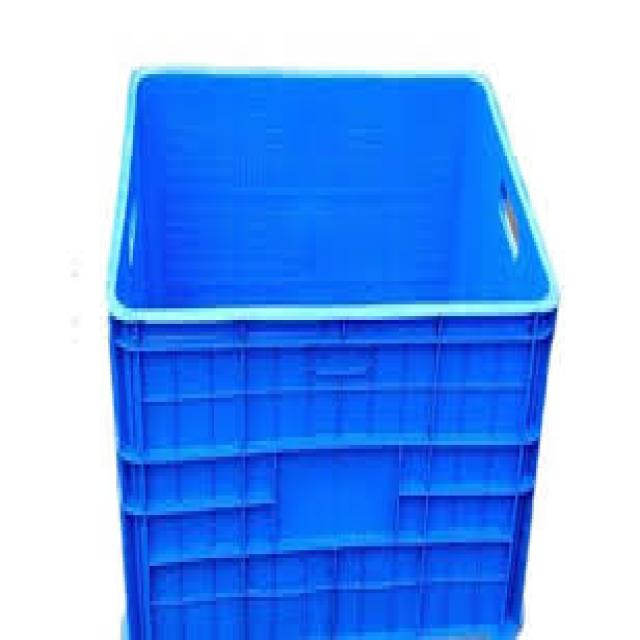basket: (107, 68, 561, 640)
